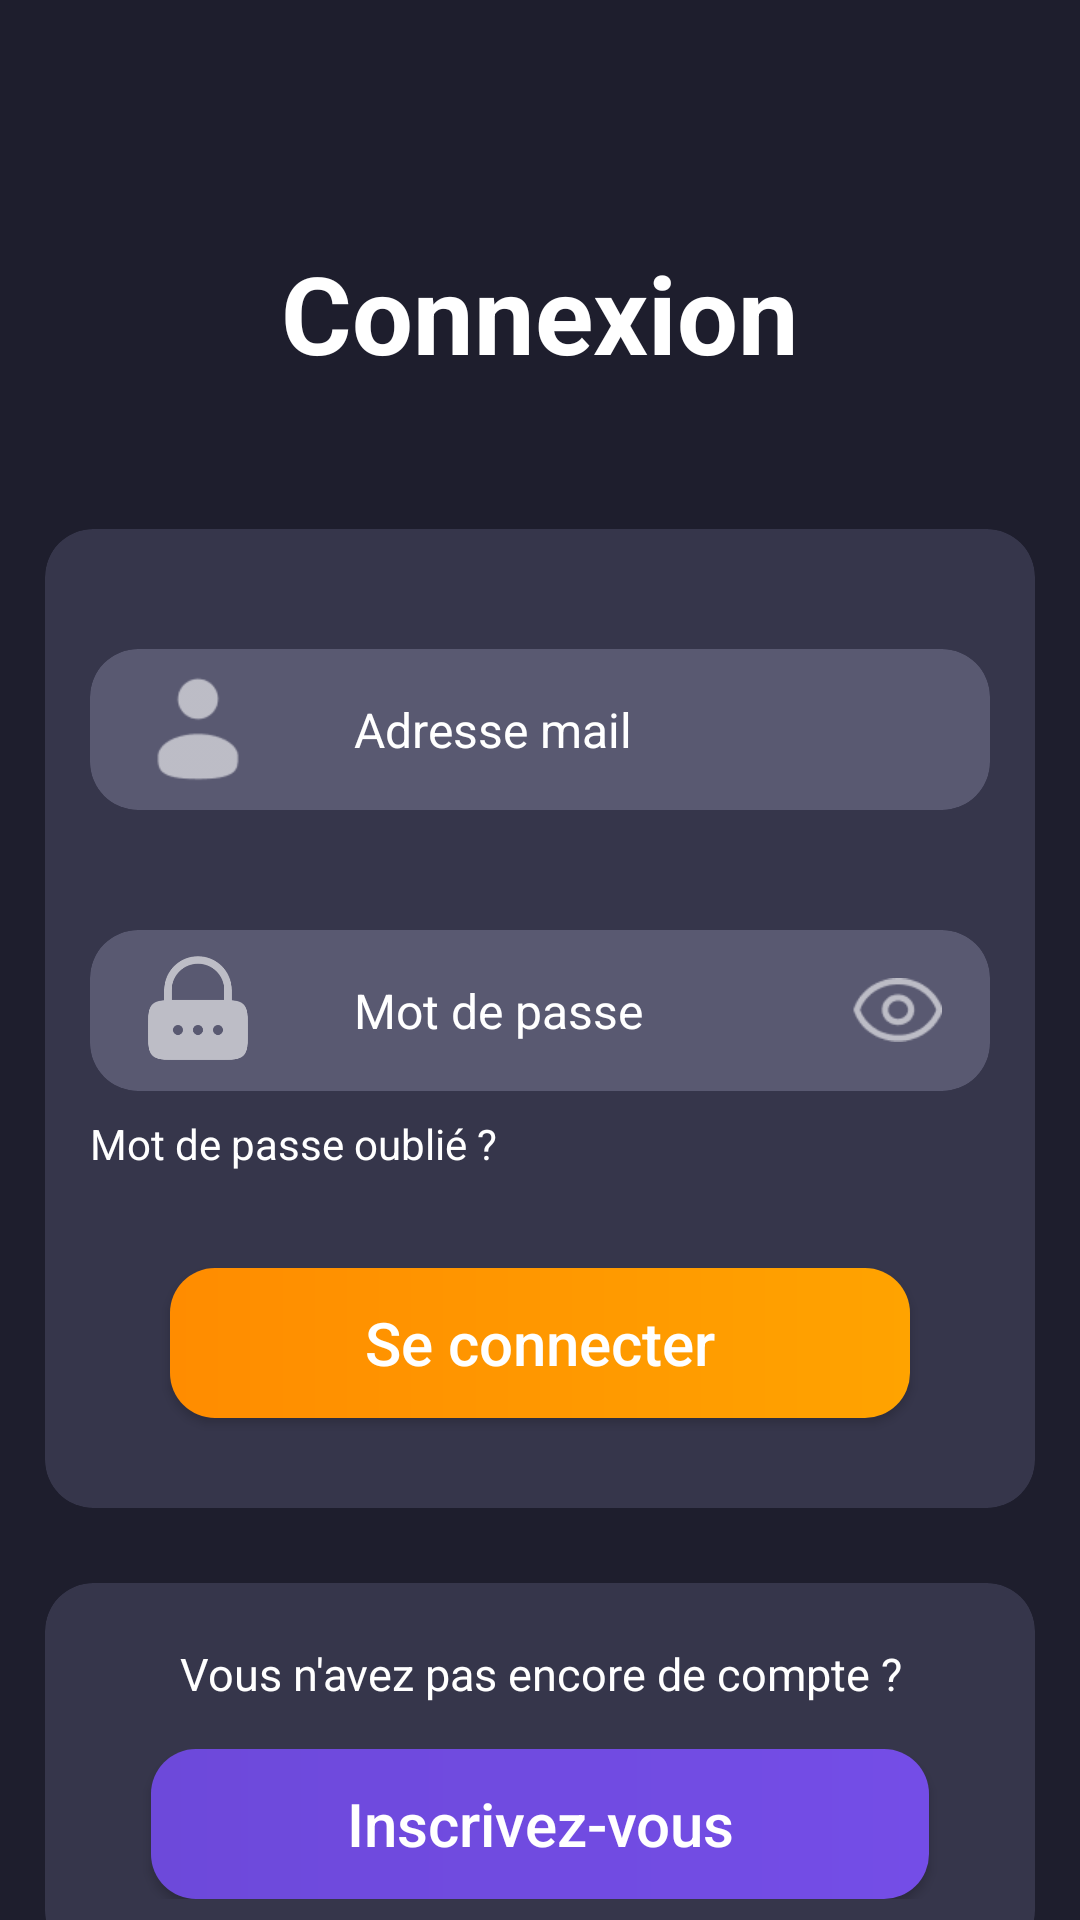

Icons on this 1080 × 1920 Android screen, each with its box as {"left": x1, "top": y1, "right": x2, "bottom": y2}:
Icône password: {"left": 148, "top": 956, "right": 248, "bottom": 1060}
Icône utilisateur: {"left": 157, "top": 678, "right": 239, "bottom": 780}
